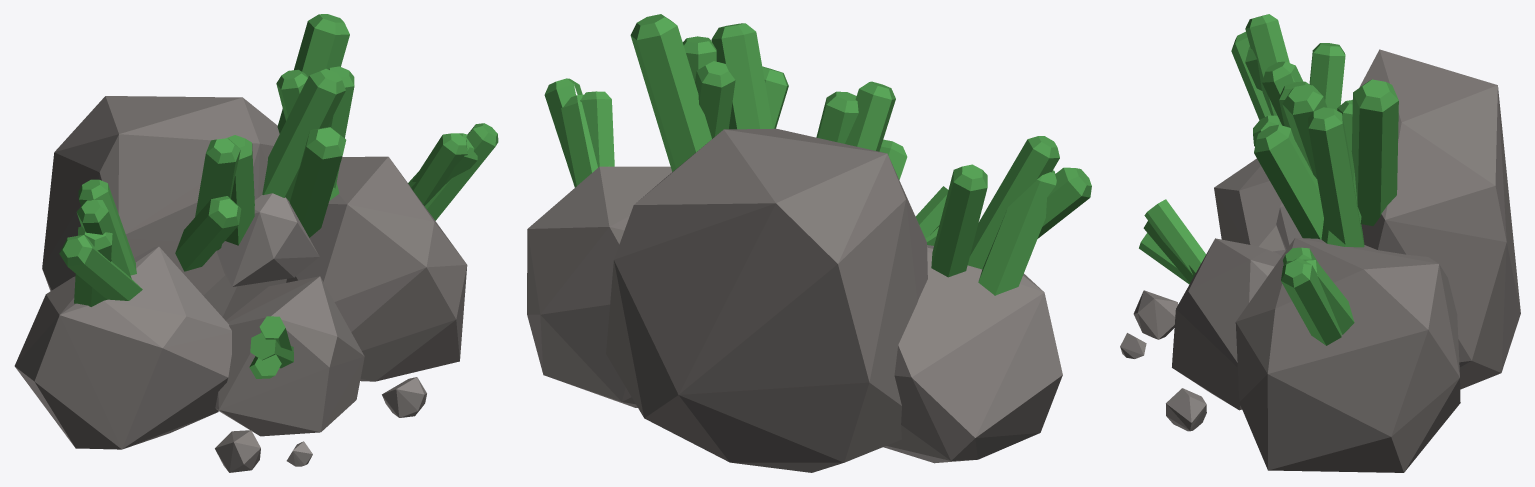
The model's file is emerald-ore-deposit-4f0566.glb.
3 views of the same model, side by side, from view 1: azimuth 30°, elevation 25°; view 2: azimuth 150°, elevation 25°; view 3: azimuth 270°, elevation 25° (orthographic). The views are drawn at different scales.
Visible parts, largest first — view 1: rock, gem; view 2: rock, gem; view 3: rock, gem.
Part boxes in pixels (<box>): rock: <box>14,96,467,472</box>; gem: <box>59,14,498,378</box>; rock: <box>527,128,1062,472</box>; gem: <box>544,14,1091,295</box>; rock: <box>1120,49,1520,472</box>; gem: <box>1139,14,1398,345</box>.
Size of the model in its own units: 1.64 by 1.12 by 1.17.
